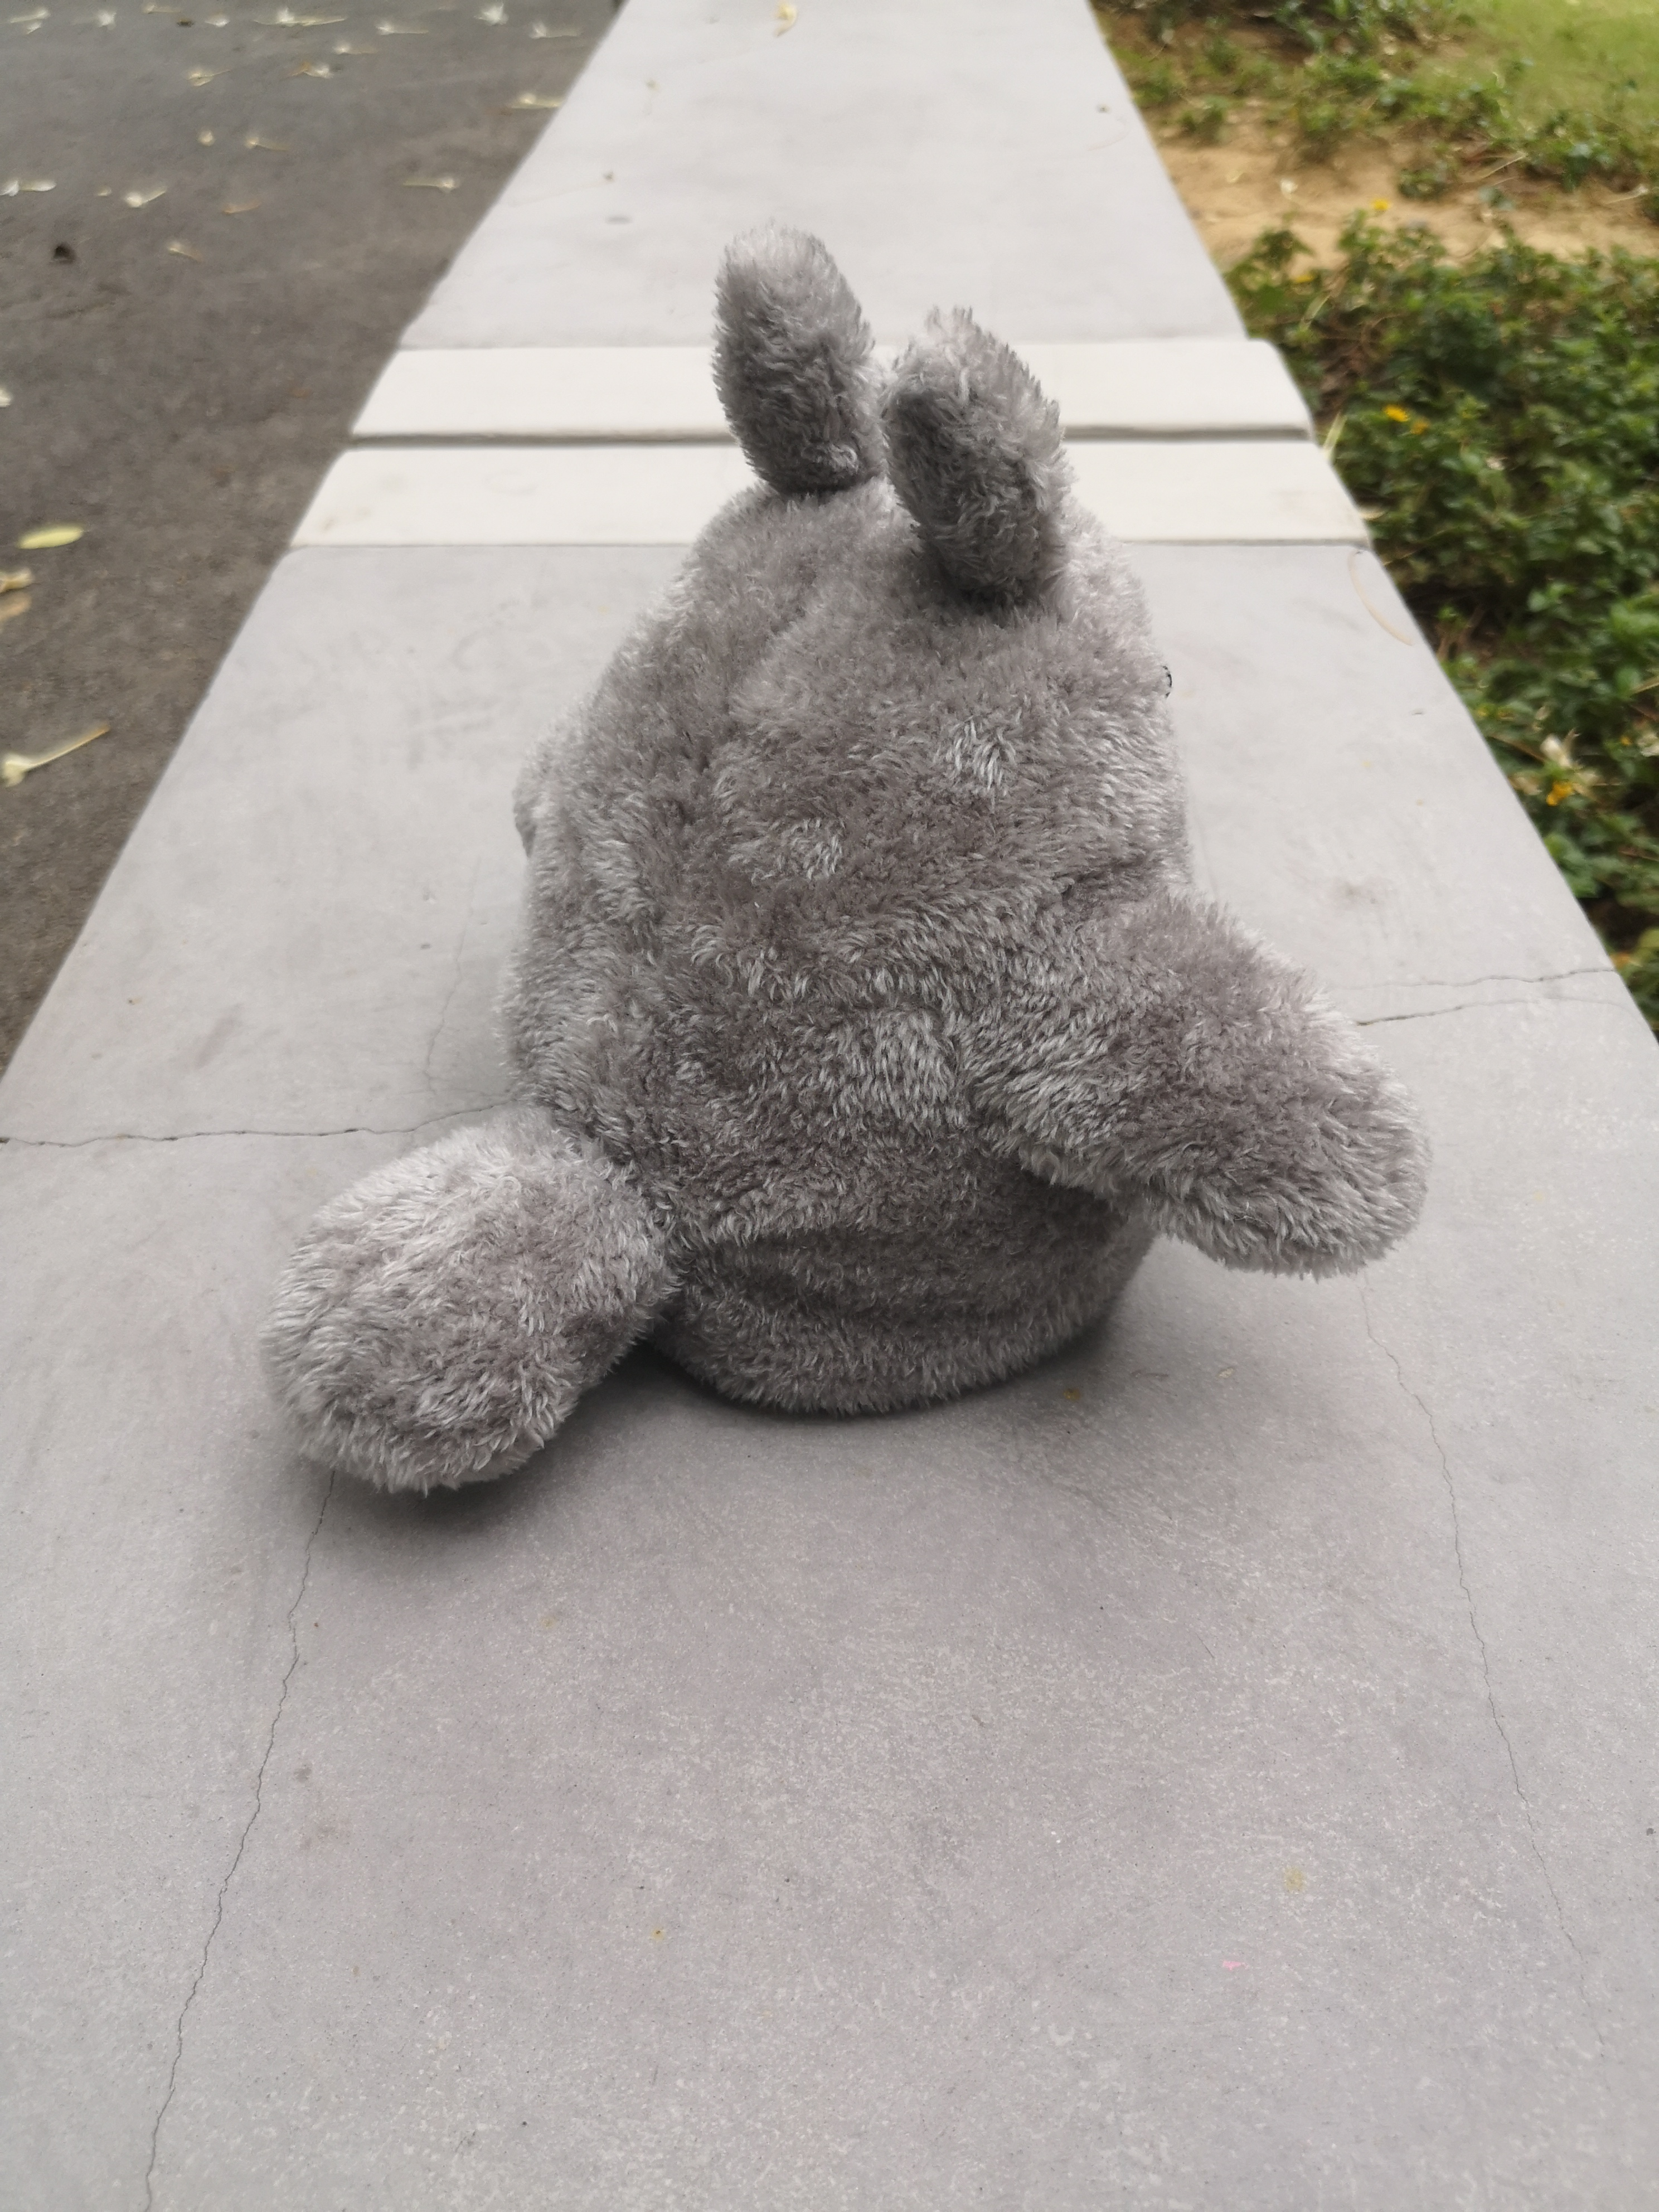totoro: (253, 221, 1443, 1521)
